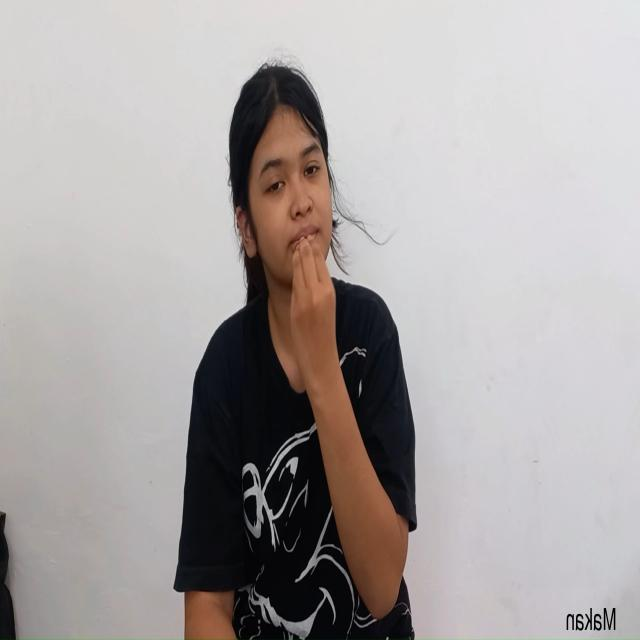Makan -BISINDO-: (217, 58, 350, 462)
